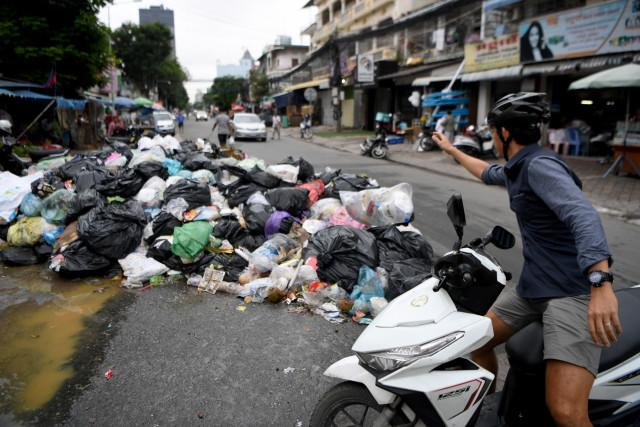trash: (0, 136, 434, 322), (78, 162, 427, 298)
